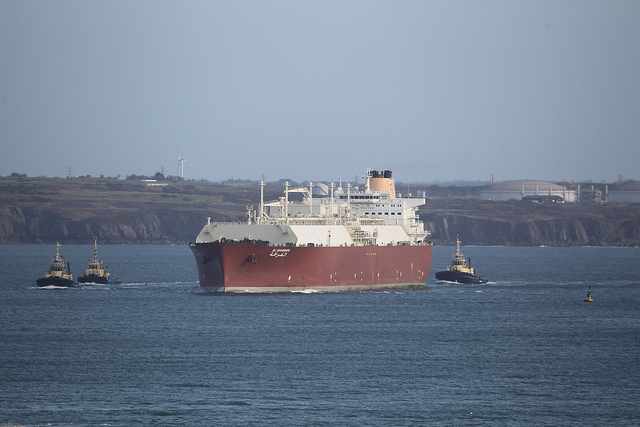LNG_ship: (184, 162, 440, 291)
tug_boat: (437, 238, 495, 287), (34, 241, 82, 287), (74, 240, 111, 284)
